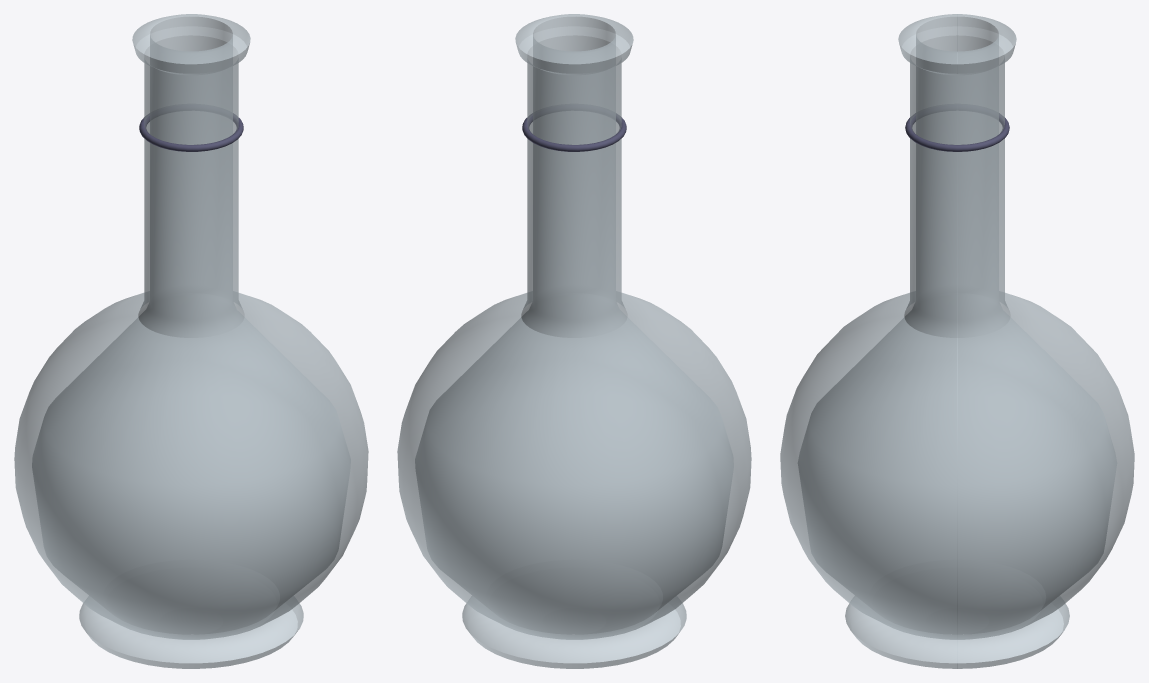
File: flask.glb
3 renders of one model, left to right at view 1: azimuth 30°, elevation 25°; view 2: azimuth 150°, elevation 25°; view 3: azimuth 270°, elevation 25°, orthographic.
Parts seen in each view (by area): view 1: flask; view 2: flask; view 3: flask.
Part boxes in pixels (<box>): flask: <box>14,14,368,668</box>; flask: <box>397,14,751,668</box>; flask: <box>780,14,1134,668</box>.
Size of the model in its own units: 1.2 by 2.2 by 1.2.
